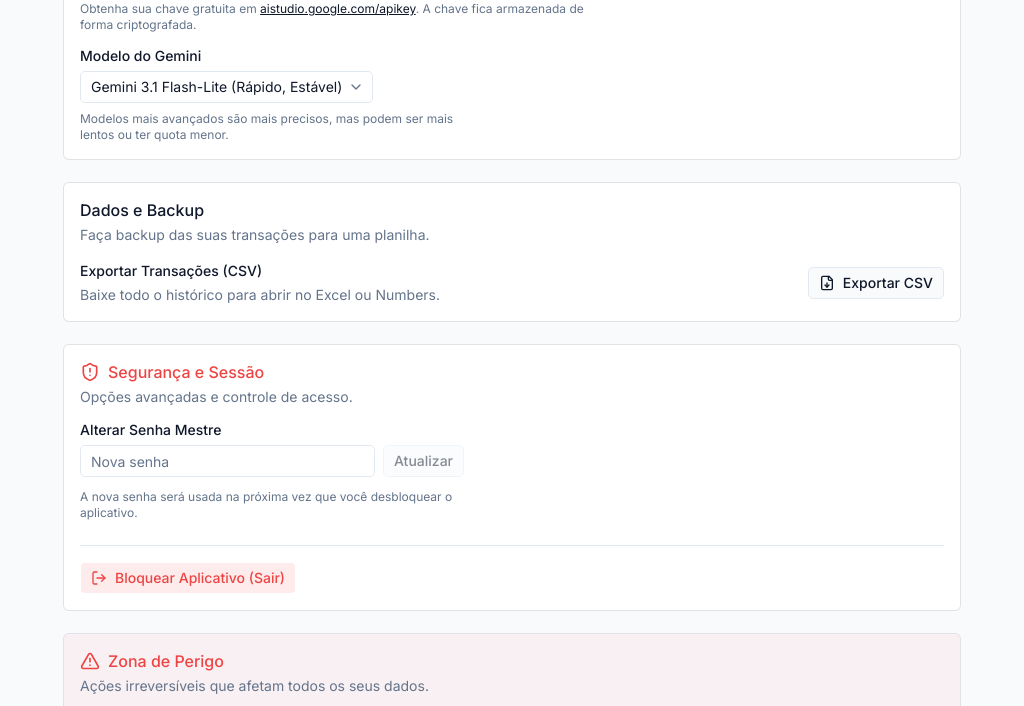
Test: SettingsPage › shows error if password is less than 6 characters
(page scrolled)
Type "12345" into the password field with placeholder "Nova senha". click: x=228, y=461
box: [80, 445, 375, 477]
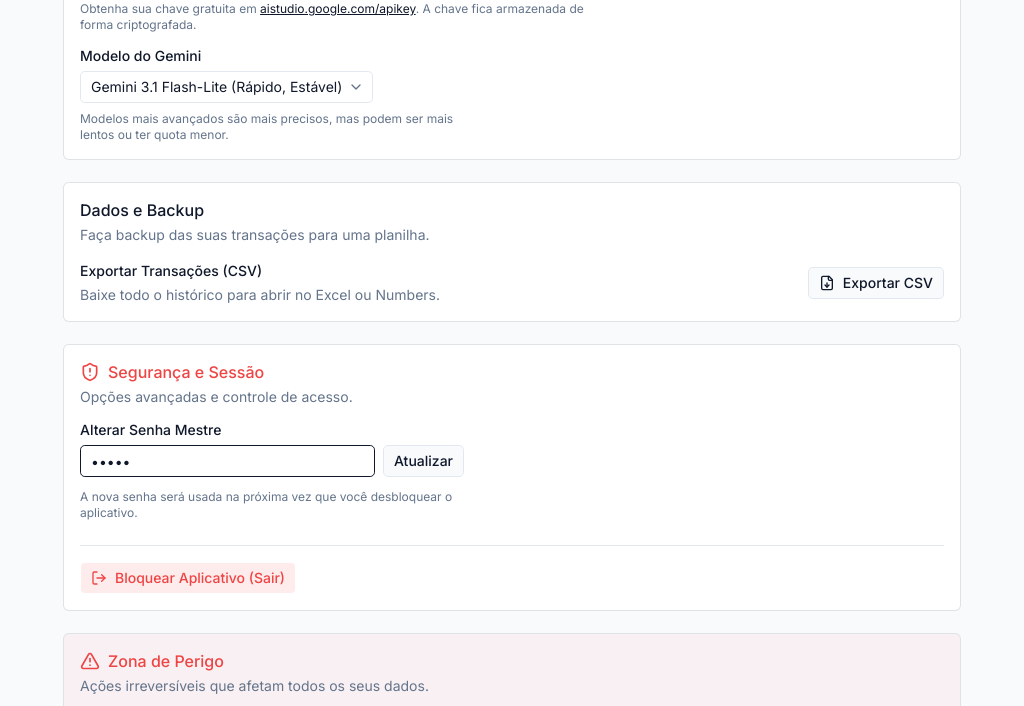
Click the button "Atualizar". click: x=424, y=461
box: [383, 445, 464, 477]
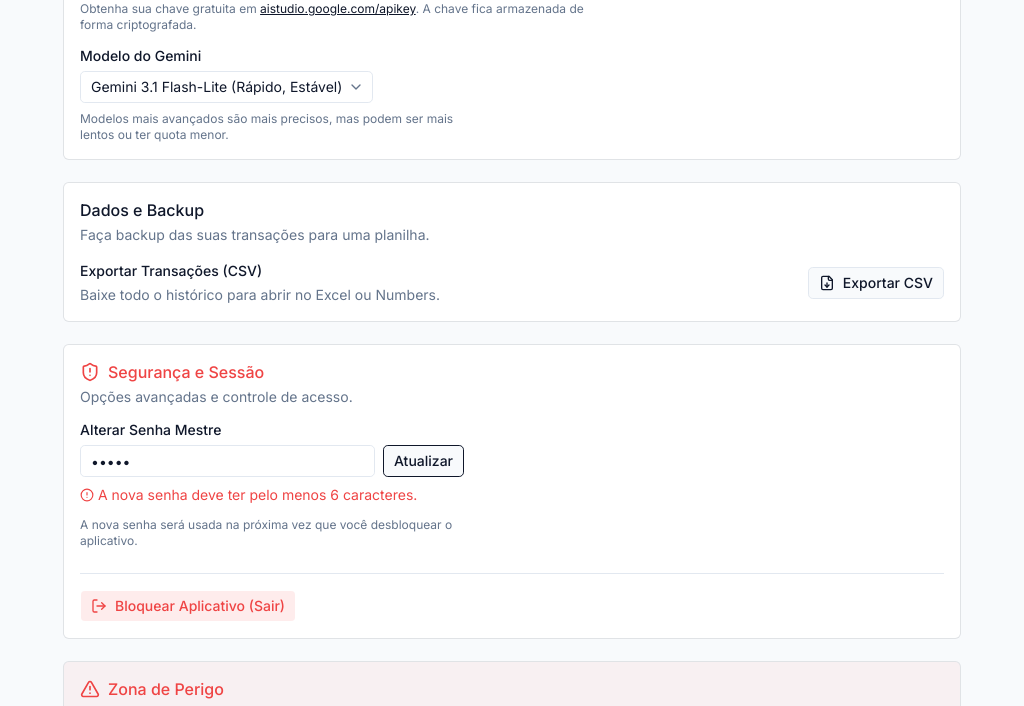
Now the text "A nova senha deve ter pelo menos 6 caracteres." is shown, box [80, 485, 464, 505]
